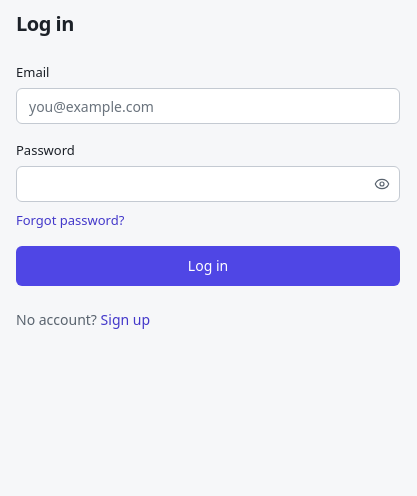
Scenario: login › explains an unverified account and offers to resend the verification email
This screenshot has width=417, height=496.
Type "a@b.com" into the field labelled "Email" at (208, 106), box left=16, top=88, right=400, bottom=124
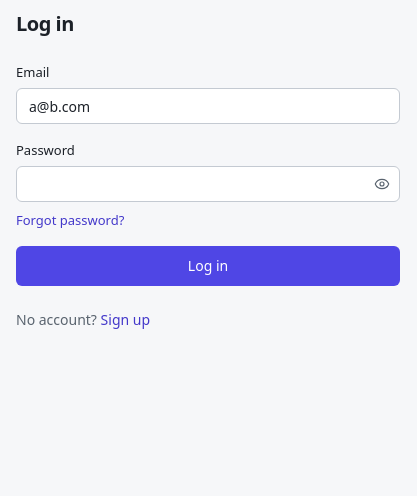
Type "password123" into the password field labelled "Password" at (208, 184), box left=16, top=166, right=400, bottom=202
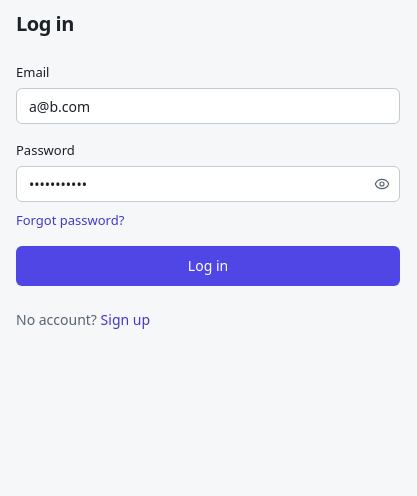
Click the button "Log in" at (208, 266), box left=16, top=246, right=400, bottom=286
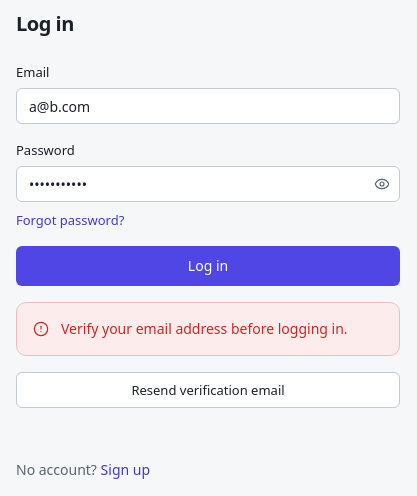
expect the message "Verify your email address before logging in." is shown: met, box left=16, top=302, right=400, bottom=356
Click the button "Resend verification email" at (208, 390), box left=16, top=372, right=400, bottom=408
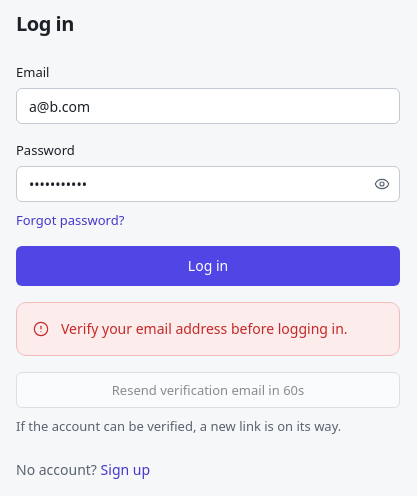
expect the button "Resend verification email in 60s" is disabled: met, box left=16, top=372, right=400, bottom=408
